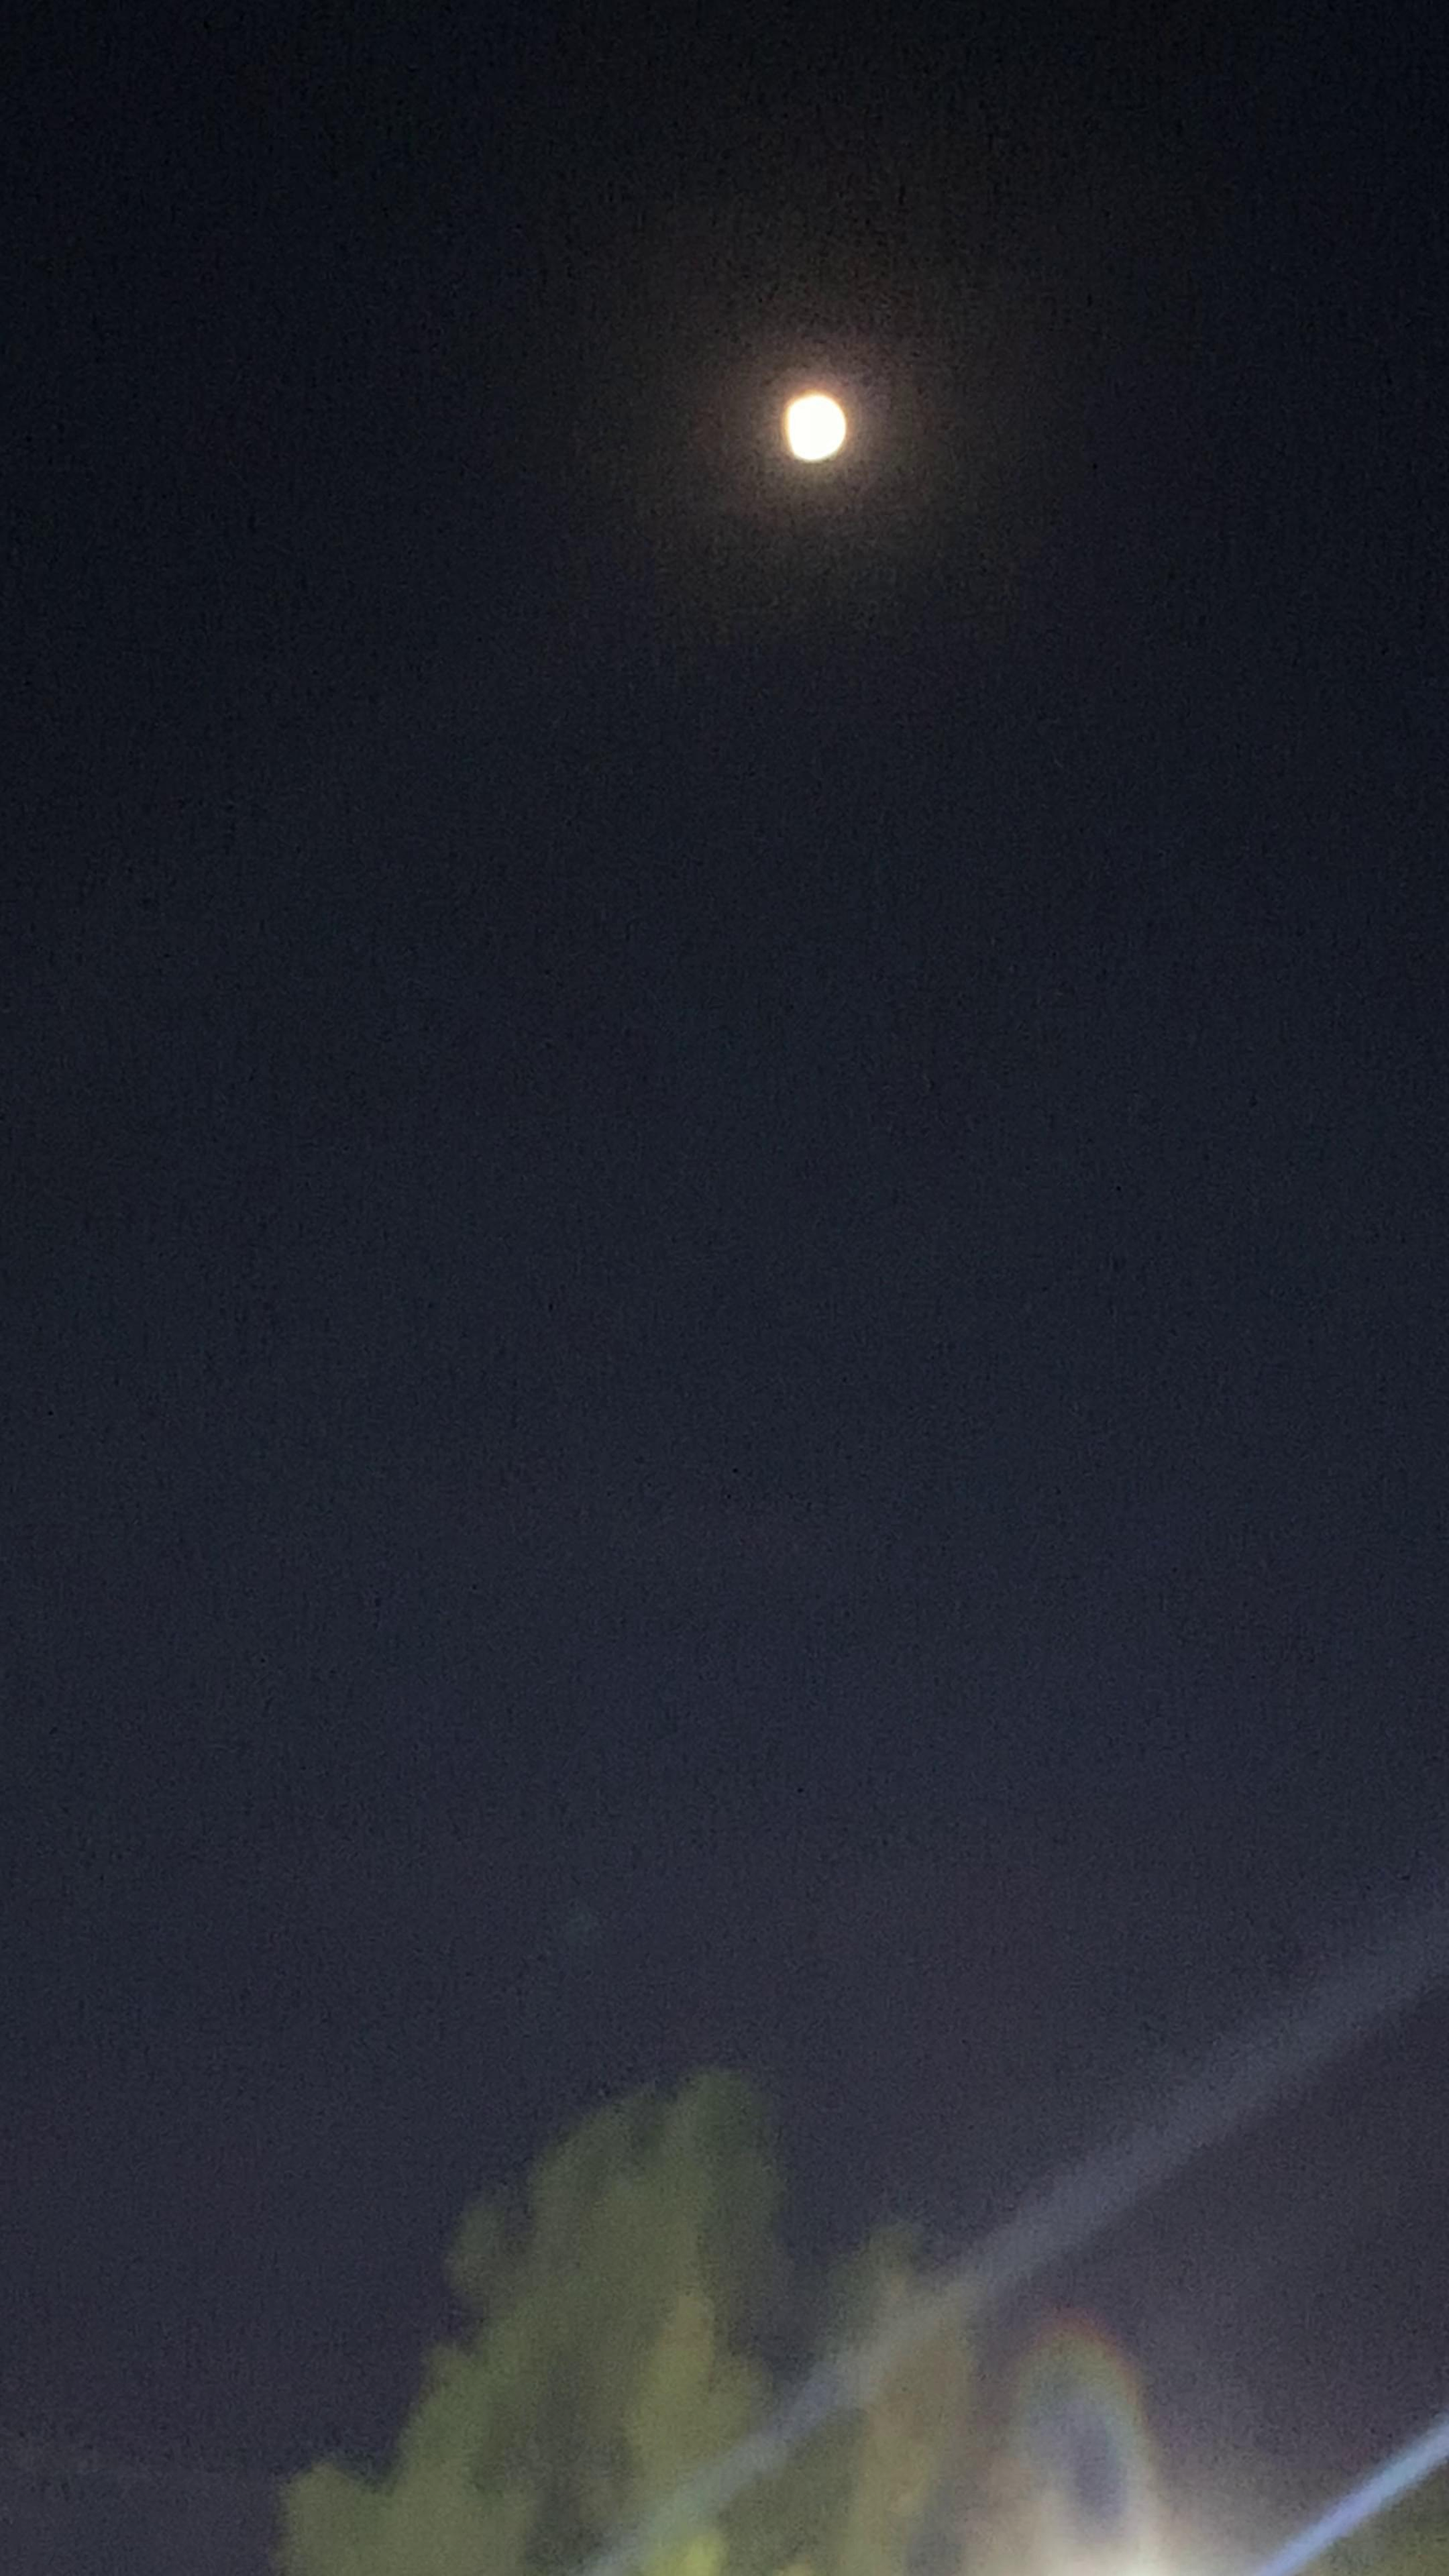moon: (745, 370, 892, 508)
